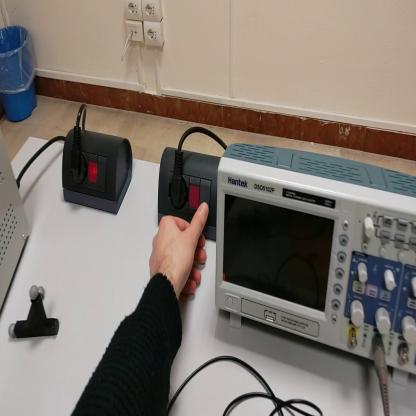hand: (150, 206, 209, 298)
oscilloscope: (214, 134, 416, 387)
power supply: (2, 118, 32, 321)
socket: (63, 132, 136, 216), (158, 147, 221, 242)
